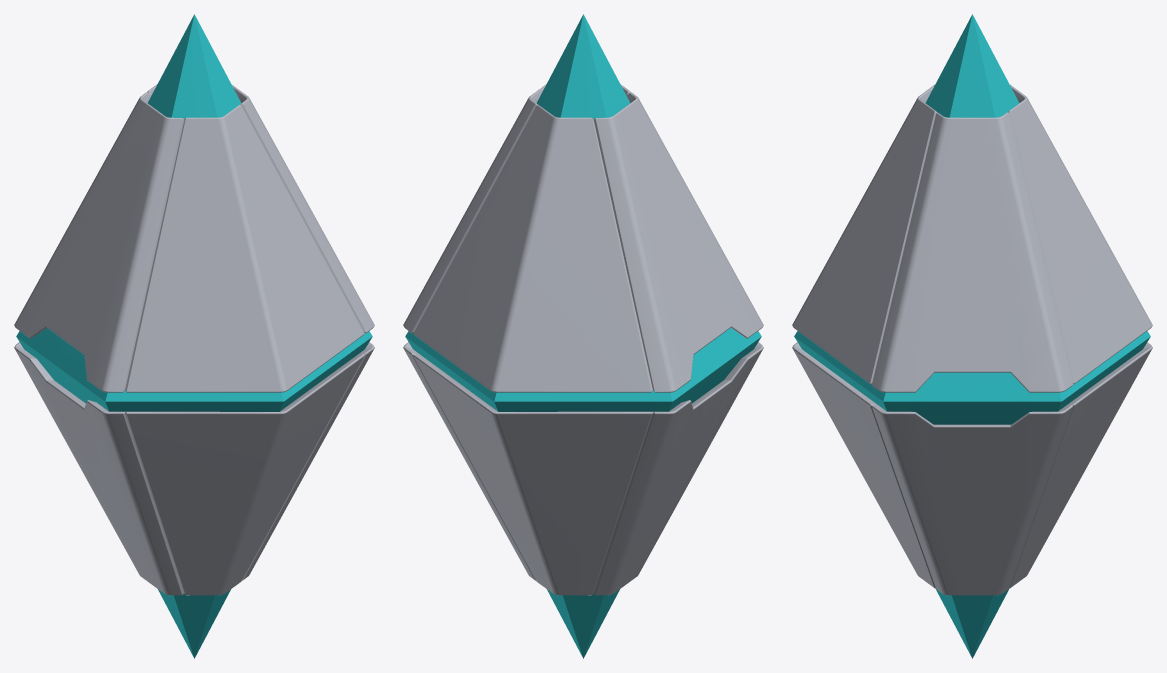
File: hexgem_A.fbx
3 views of the same model, side by side, from view 1: azimuth 30°, elevation 25°; view 2: azimuth 150°, elevation 25°; view 3: azimuth 270°, elevation 25° (orthographic).
Parts seen in each view (by area): view 1: hexgem_A_LOD0; view 2: hexgem_A_LOD0; view 3: hexgem_A_LOD0.
Part boxes in pixels (x1,y1,x2,y2): hexgem_A_LOD0: [14, 14, 374, 658]; hexgem_A_LOD0: [403, 14, 763, 658]; hexgem_A_LOD0: [792, 14, 1152, 658].
Size of what is drawn, in the model's own units: 167 by 379 by 192.
